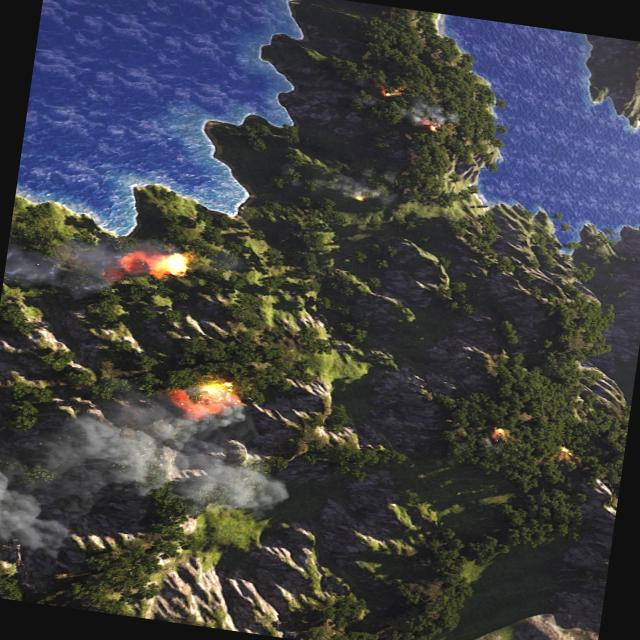fire: (172, 373, 242, 424), (125, 244, 193, 282), (544, 442, 578, 467), (378, 80, 406, 100), (420, 114, 448, 134), (484, 428, 502, 442)
smoke: (0, 366, 304, 608), (3, 219, 204, 307)
